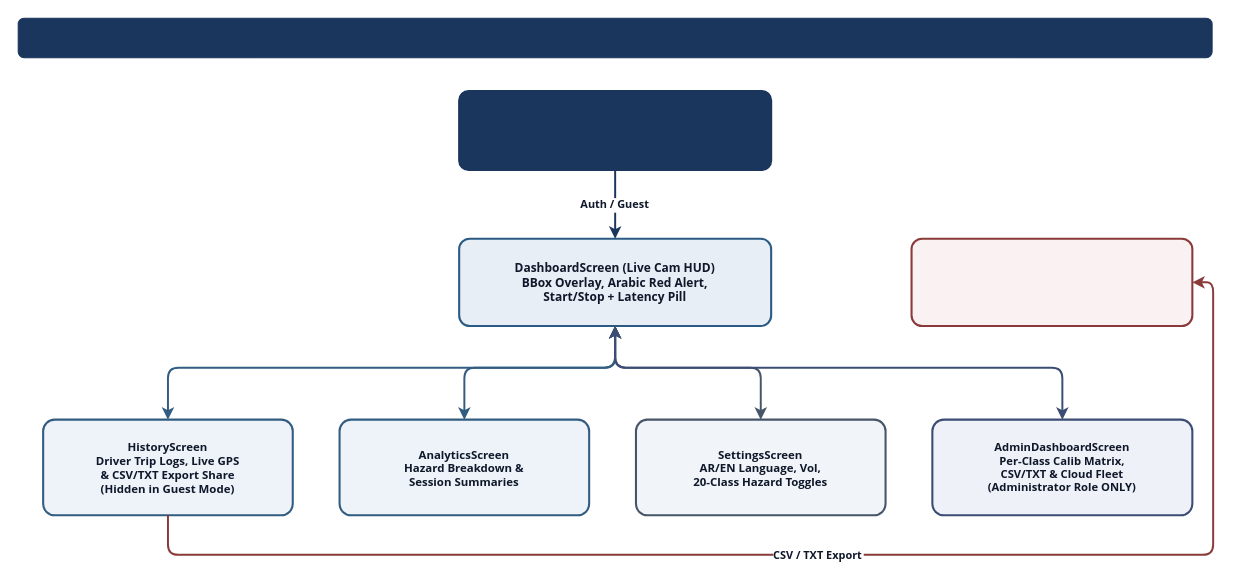
Image size: 1241x582. Some labels were removed from this diagram. The shapes that lost their labels are listed below. From the top down, each one's centre as x and y in pixels, then its label:
At [614,37]: "Jetpack Compose Navigation Architecture & Role-Gated Screen Graph".
At [615,130]: "AuthScreen Sign In (SHA-256) | Register Account Guest Mode Entry Button".
At [1051,282]: "TripExportHelper MediaStore Downloads CSV + FileProvider Share Sheet".
